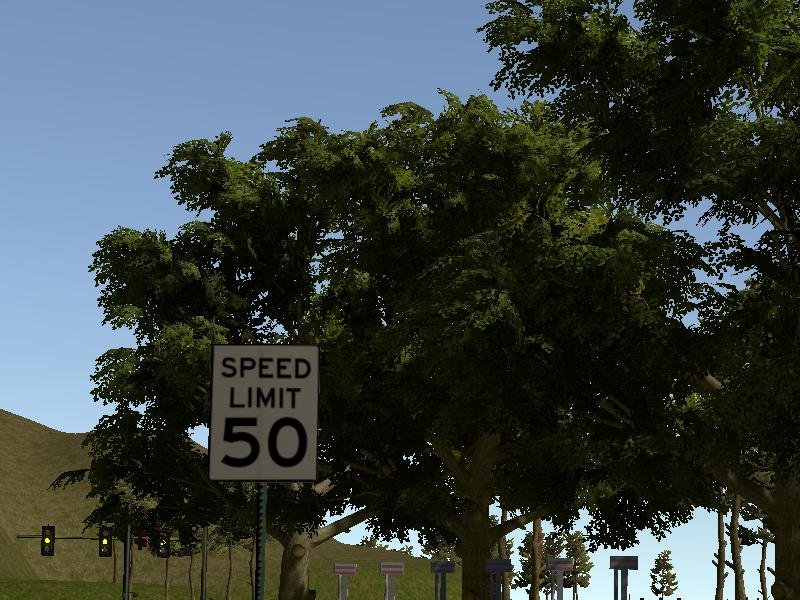Yellow: (40, 525, 55, 556), (97, 526, 112, 557)
